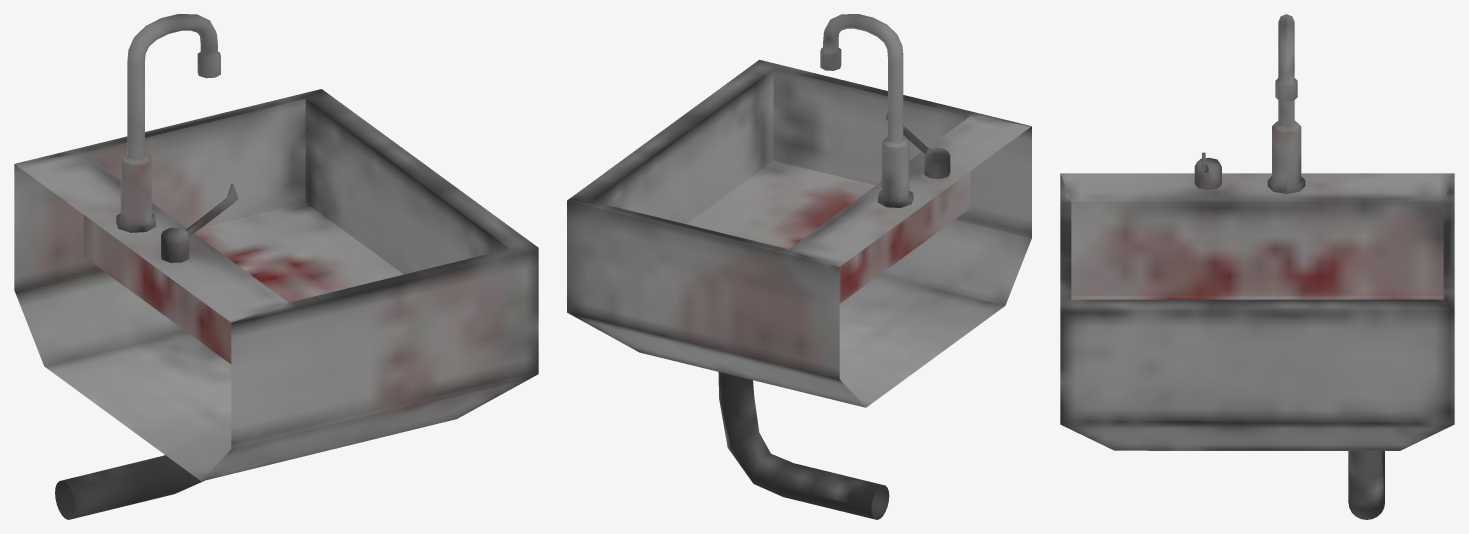
The model's file is med_sink.f3bd85f988.glb.
The picture shows the model from 3 angles, left to right: view 1: azimuth 30°, elevation 25°; view 2: azimuth 150°, elevation 25°; view 3: azimuth 270°, elevation 25°; orthographic projection. The views are drawn at different scales.
Visible parts, largest first — view 1: med_sink; view 2: med_sink; view 3: med_sink.
Boxes of the visible parts, box(x1,y1,x2,y2) form: med_sink: box(14, 14, 538, 519); med_sink: box(567, 14, 1031, 519); med_sink: box(1060, 14, 1454, 519).
Size of the model in its own units: 0.5749 by 0.9282 by 0.7027.
1 material, 1 textured.
